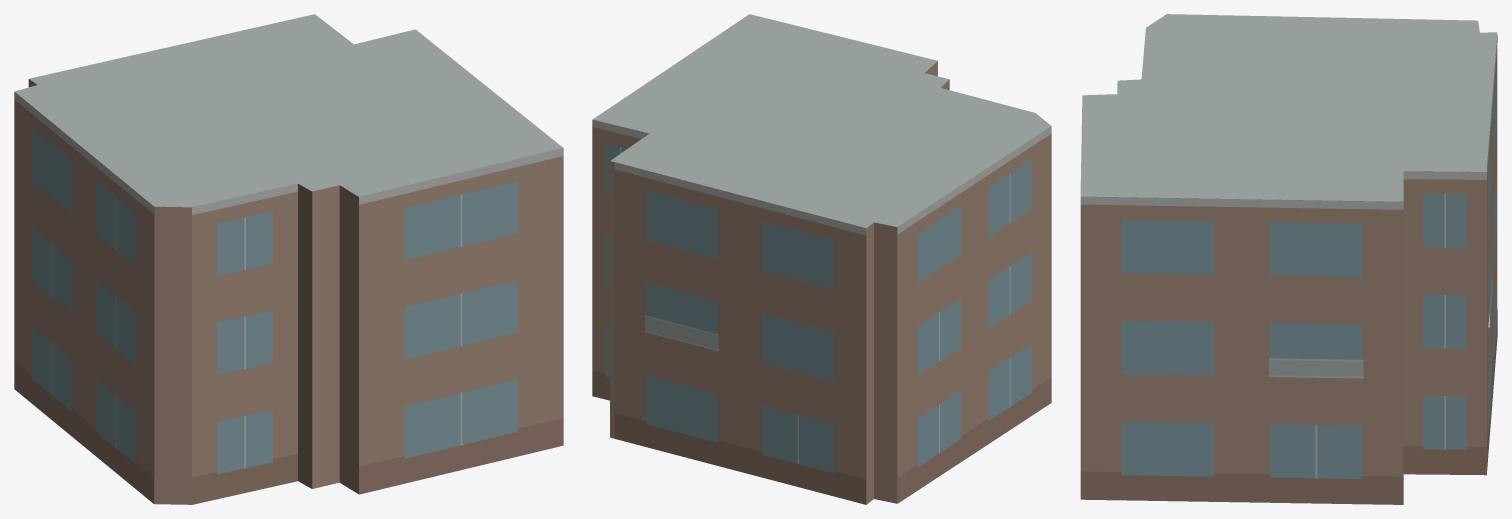
File: survey-upis-32470684.glb
3 views of the same model, side by side, from view 1: azimuth 30°, elevation 25°; view 2: azimuth 150°, elevation 25°; view 3: azimuth 270°, elevation 25° (orthographic). The views are drawn at different scales.
Parts seen in each view (by area): view 1: survey-upis-32470684.tmp; view 2: survey-upis-32470684.tmp; view 3: survey-upis-32470684.tmp.
Part boxes in pixels (<box>): survey-upis-32470684.tmp: <box>14,14,563,504</box>; survey-upis-32470684.tmp: <box>592,14,1051,504</box>; survey-upis-32470684.tmp: <box>1080,14,1497,504</box>.
Size of the model in its own units: 12.16 by 9.15 by 11.42.
